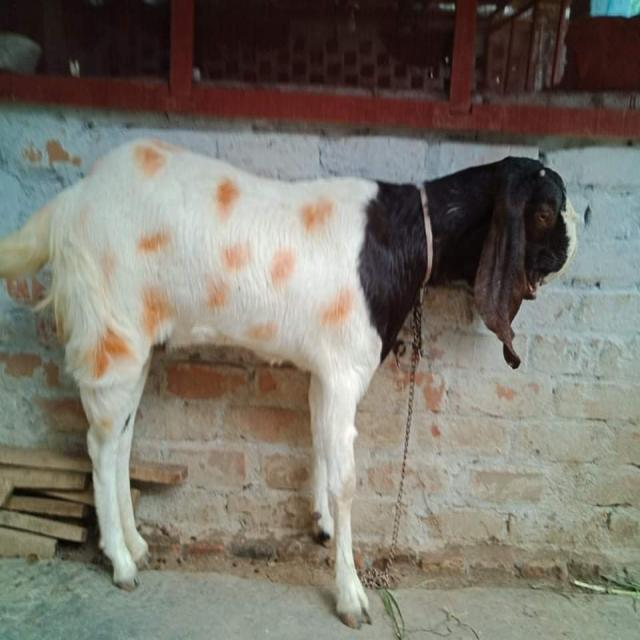Goat: (0, 135, 573, 629)
